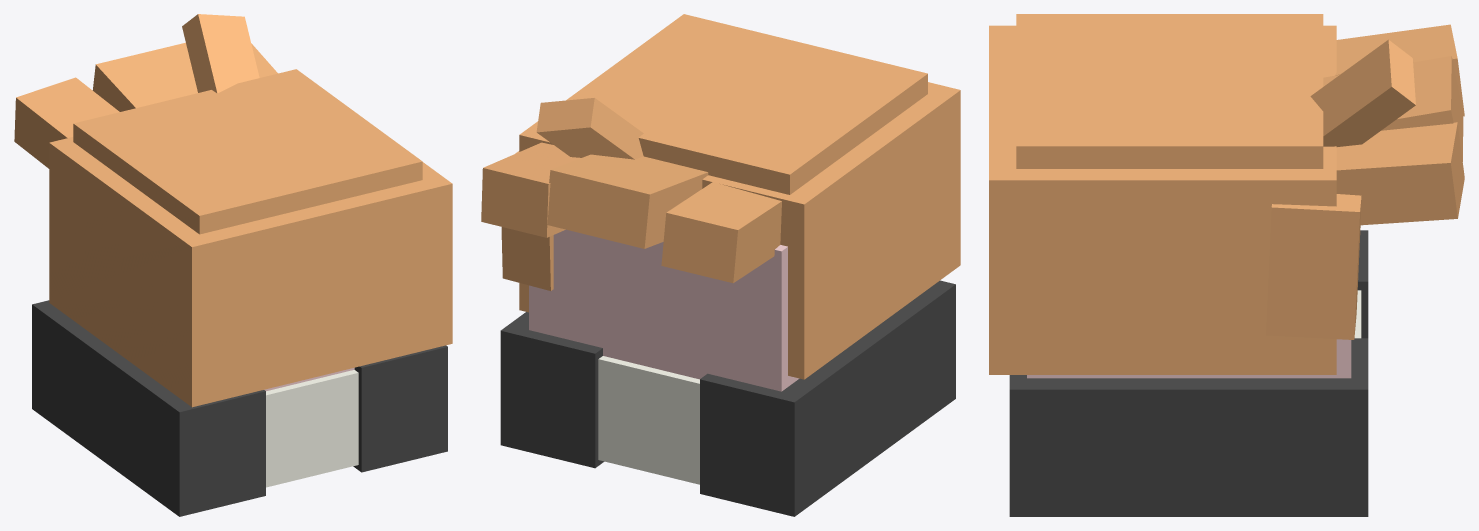
File: Man3.fbx
The picture shows the model from 3 angles, left to right: view 1: azimuth 30°, elevation 25°; view 2: azimuth 150°, elevation 25°; view 3: azimuth 270°, elevation 25°; orthographic projection. The views are drawn at different scales.
Visible parts, largest first — view 1: Cube.014; view 2: Cube.014; view 3: Cube.014.
Part boxes in pixels (x1,y1,x2,y2): Cube.014: (14,14,452,516); Cube.014: (481,14,960,516); Cube.014: (989,14,1464,516).
Bounding box in the file's own units: 236 × 287 × 293.
